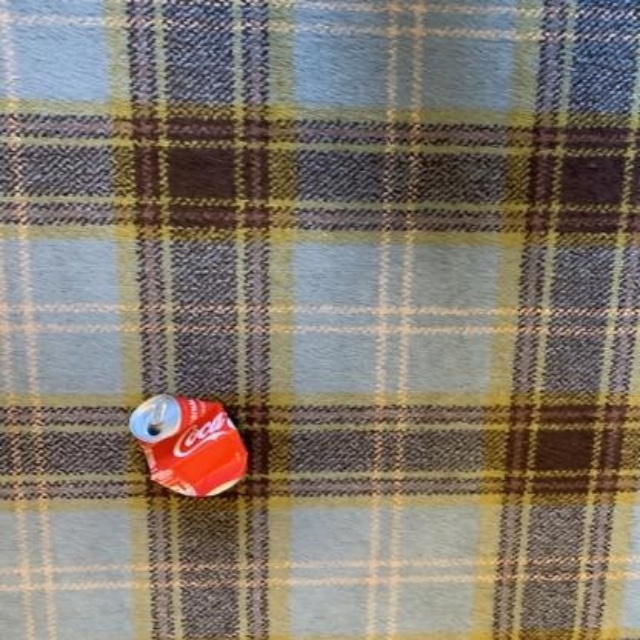trash: (129, 394, 246, 495)
